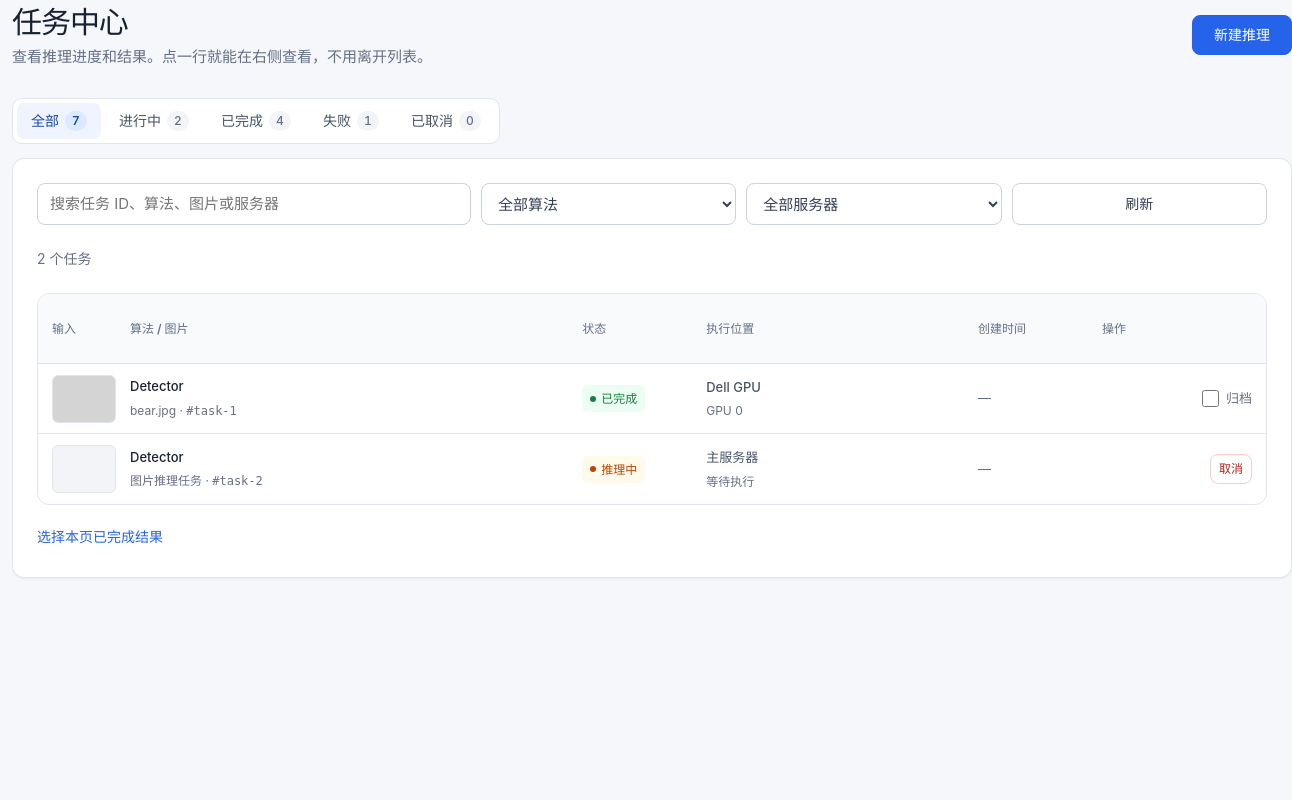
Test: task center › reports archive failures and preserves the selected results
What coordinates should you click on to do the following:
click the button "选择本页已完成结果"
I would click on:
 (100, 537)
Its box is [37,521,163,553].
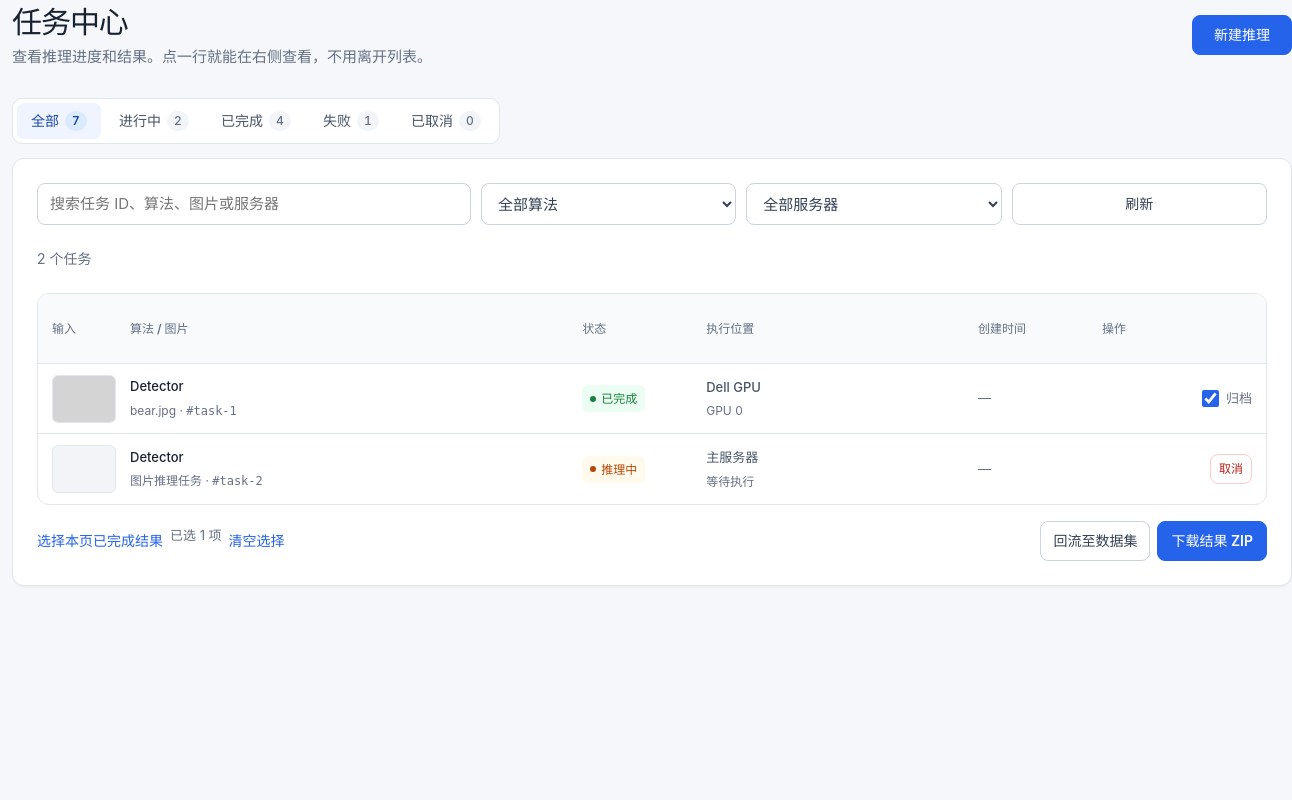
What coordinates should you click on to do the following:
click the button "下载结果 ZIP"
I would click on:
 (1212, 541)
Its box is [1157,521,1267,561].
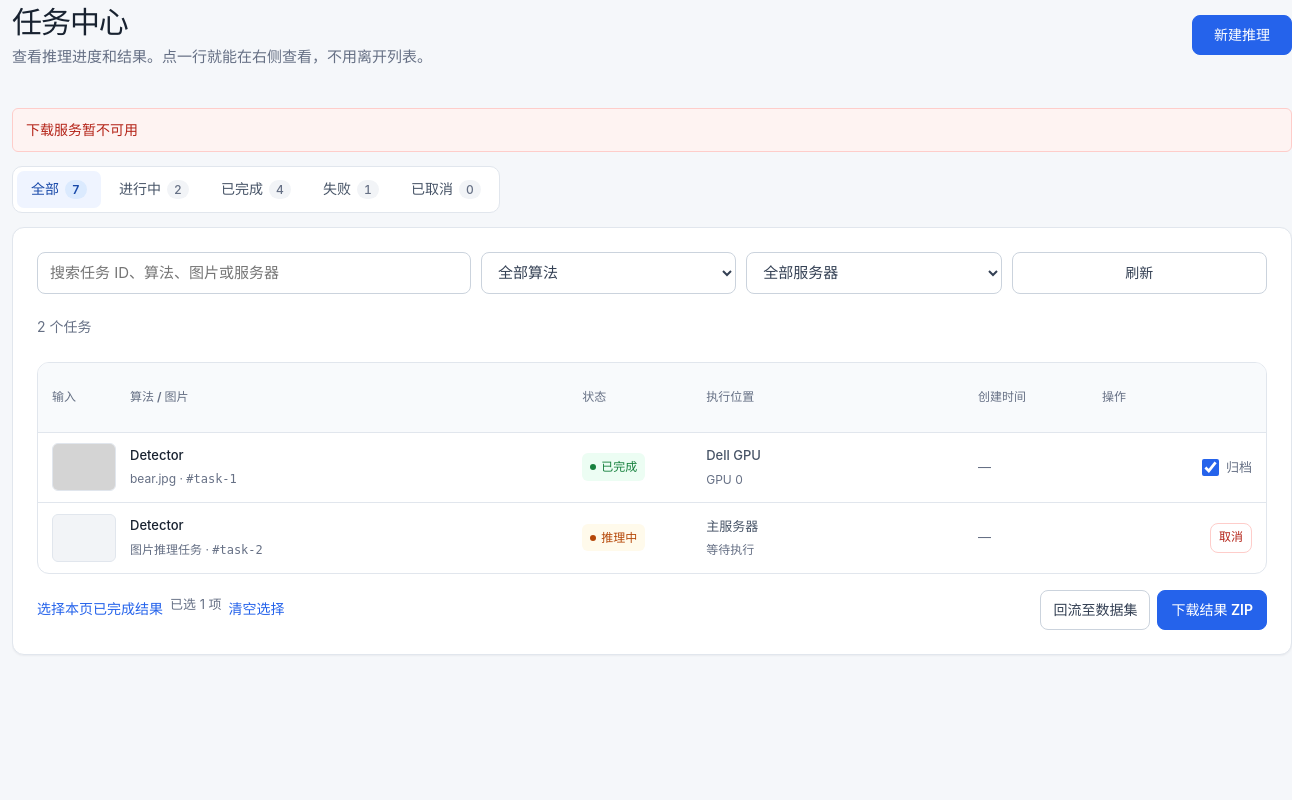
expect the text "已选 1 项" is shown: met, box [170,596,222,612]
expect the text "下载服务暂不可用" is shown: met, box [12,108,1291,152]
